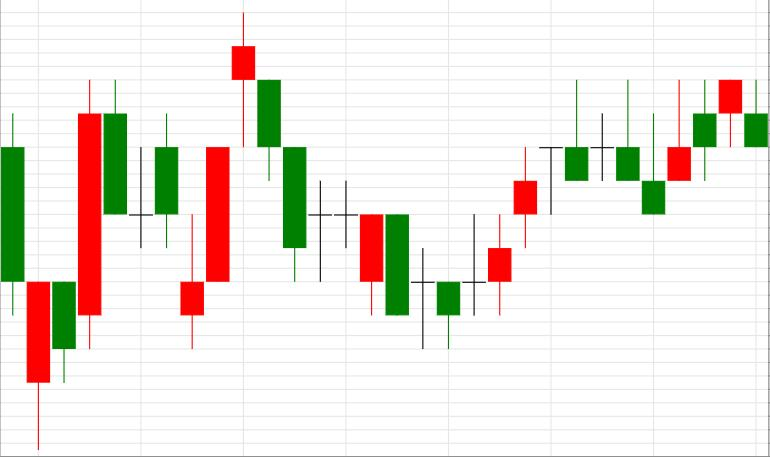shooting_star_fall: (436, 78, 639, 349), (436, 79, 588, 349)
